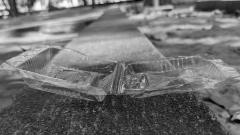plastic: (0, 45, 240, 103)
